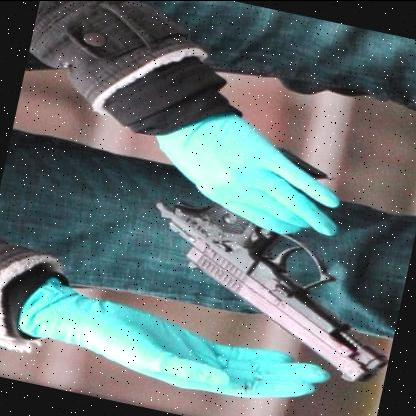rifle: (124, 130, 416, 397)
